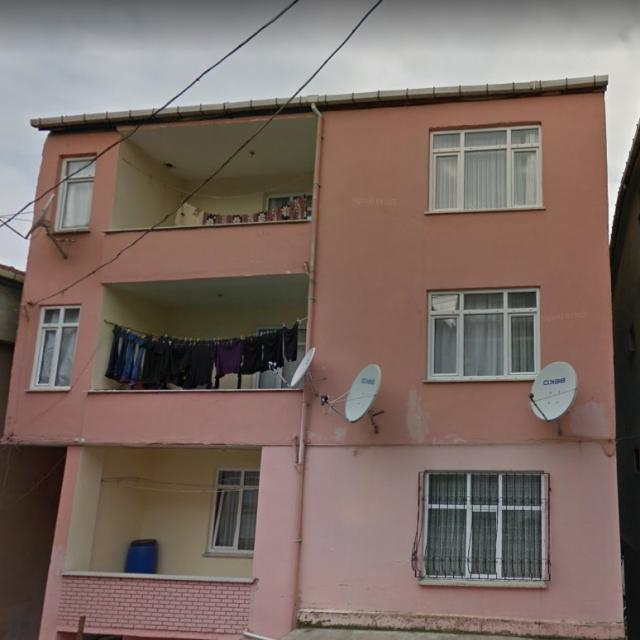Building: (1, 75, 628, 638)
